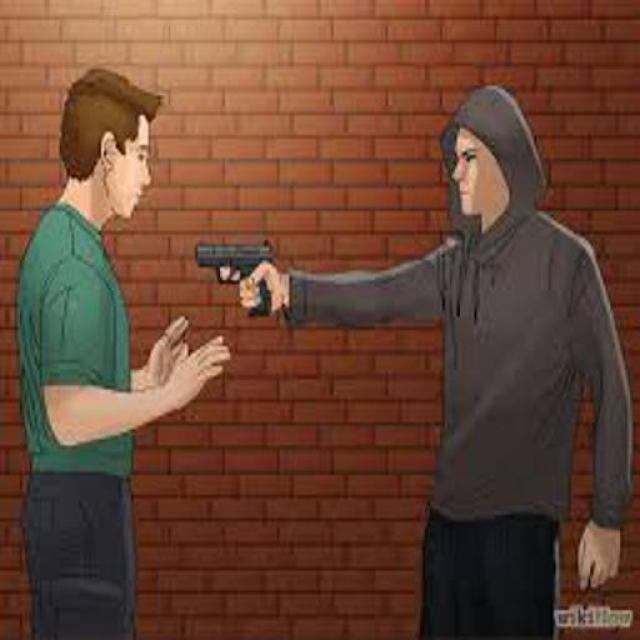pistol: (193, 237, 274, 316)
